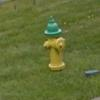Hydrant: (32, 11, 82, 78)
